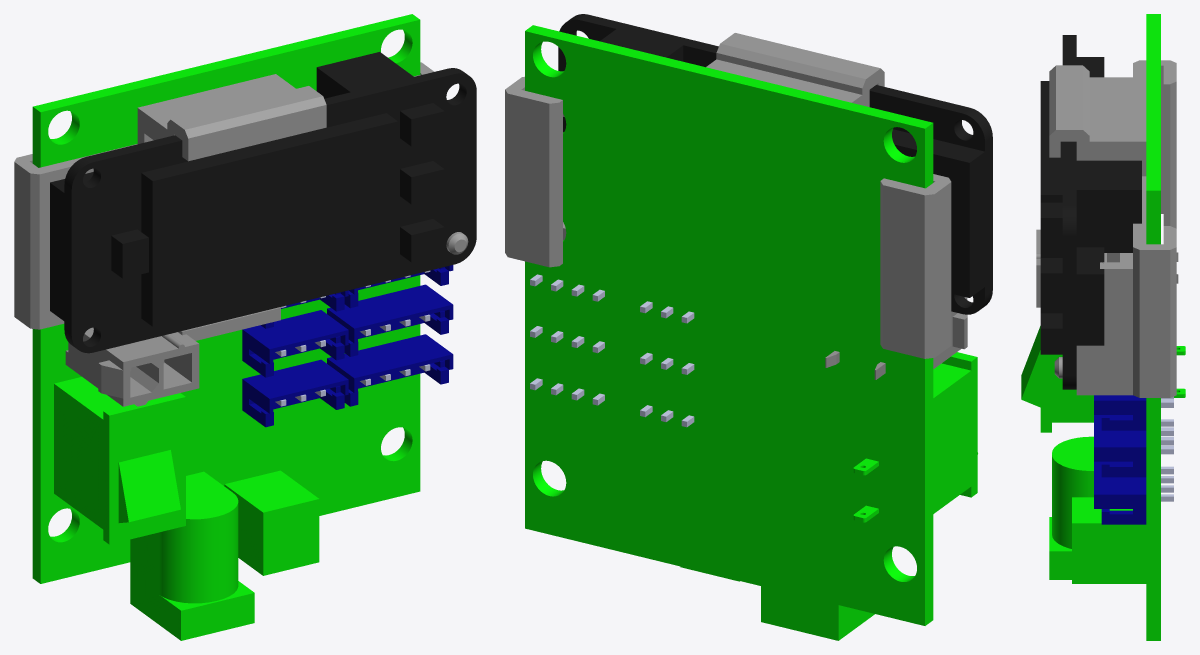
Rendered from Main_board.fbx.
The picture shows the model from 3 angles, left to right: view 1: azimuth 30°, elevation 25°; view 2: azimuth 150°, elevation 25°; view 3: azimuth 270°, elevation 25°; orthographic projection. The views are drawn at different scales.
Visible parts, largest first — view 1: Body1 (×8), Body15; view 2: Body1 (×3), Body15; view 3: Body1 (×6), Body15.
Boxes of the visible parts, x1=… form: Body1 (×8): x1=32, y1=14, x2=476, y2=640; Body15: x1=14, y1=62, x2=468, y2=340; Body1 (×3): x1=525, y1=14, x2=992, y2=640; Body15: x1=505, y1=33, x2=951, y2=358; Body1 (×6): x1=1021, y1=14, x2=1185, y2=640; Body15: x1=1049, y1=60, x2=1176, y2=397.
Bounding box in the file's own units: 52.25 × 62.03 × 18.87.
